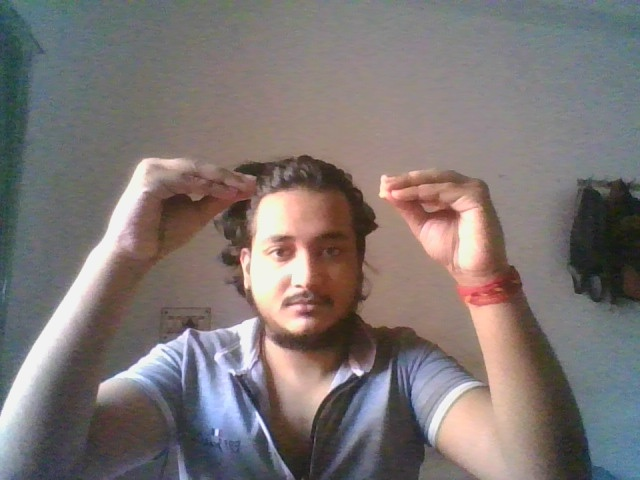Mouth: (109, 155, 259, 261), (374, 169, 509, 273)
